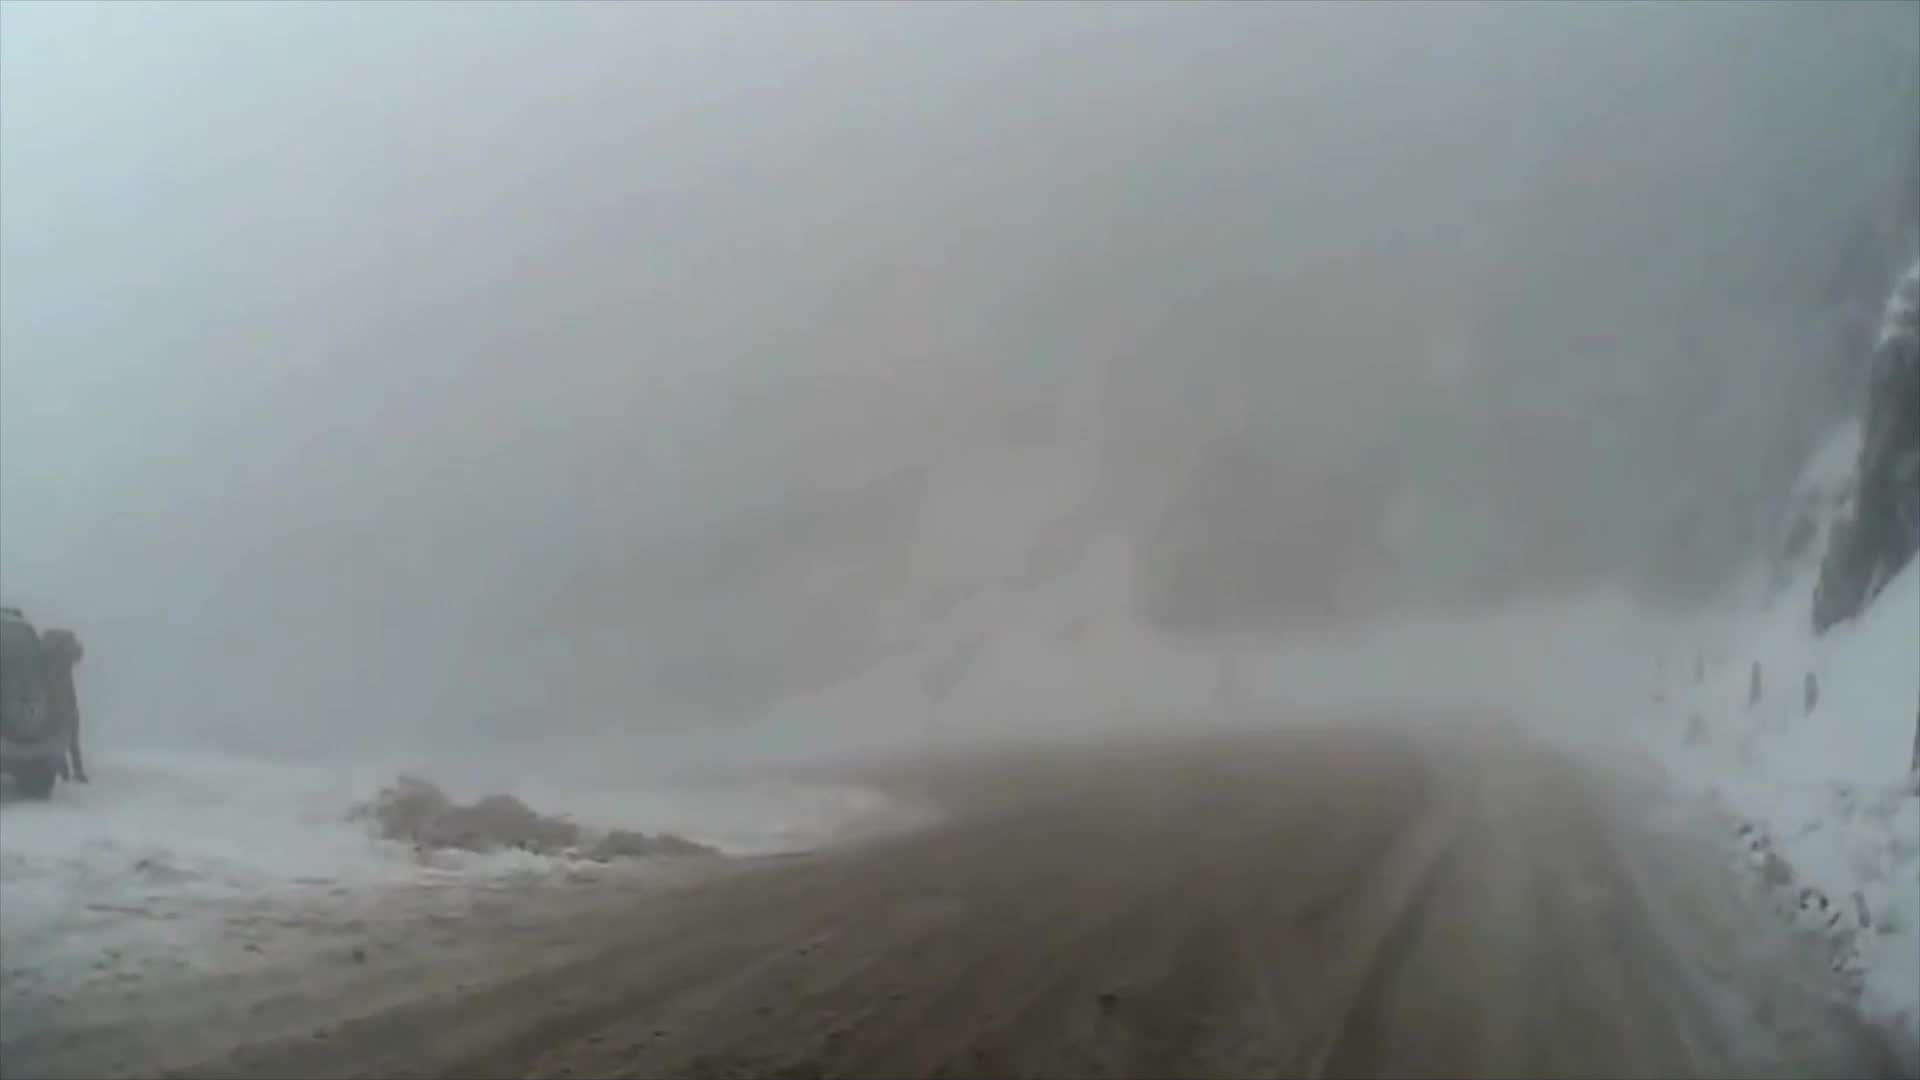vehicle: (0, 608, 65, 800)
